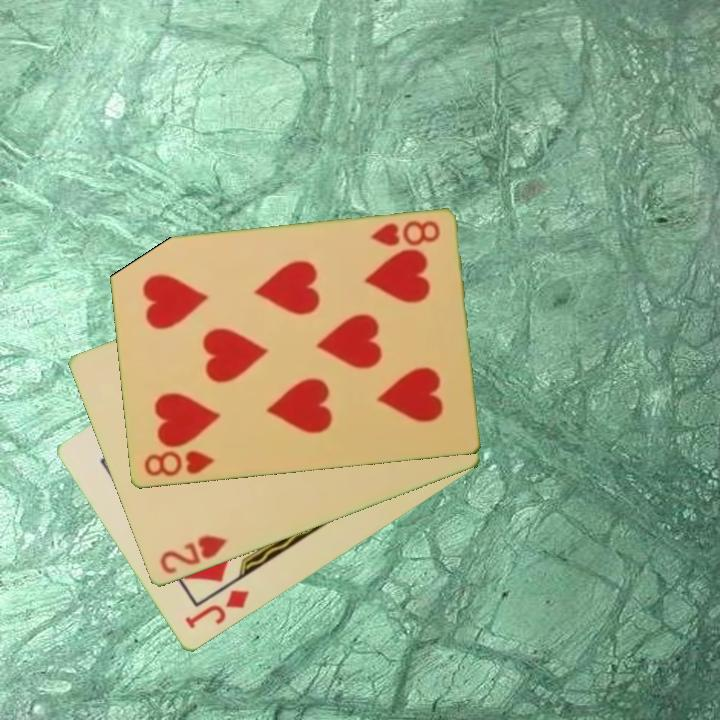2h: (156, 531, 230, 578)
8h: (140, 447, 217, 480), (366, 217, 443, 250)
Jd: (181, 586, 253, 633)
